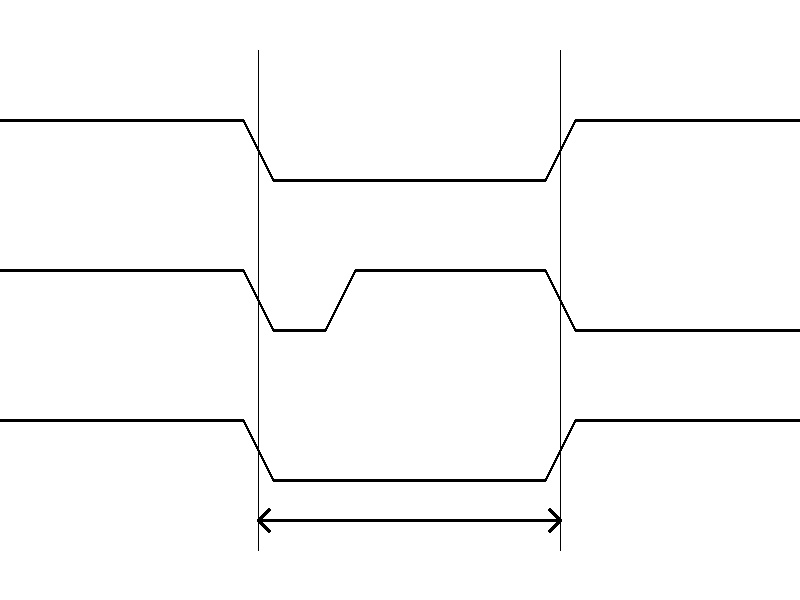double_arrow: (258, 505, 560, 535)
